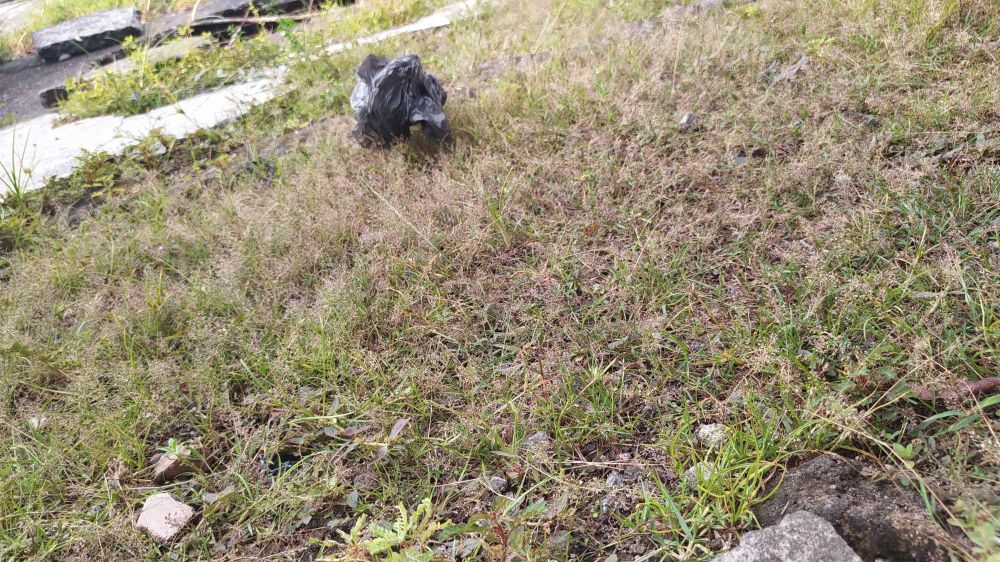plastik: (337, 45, 466, 172)
